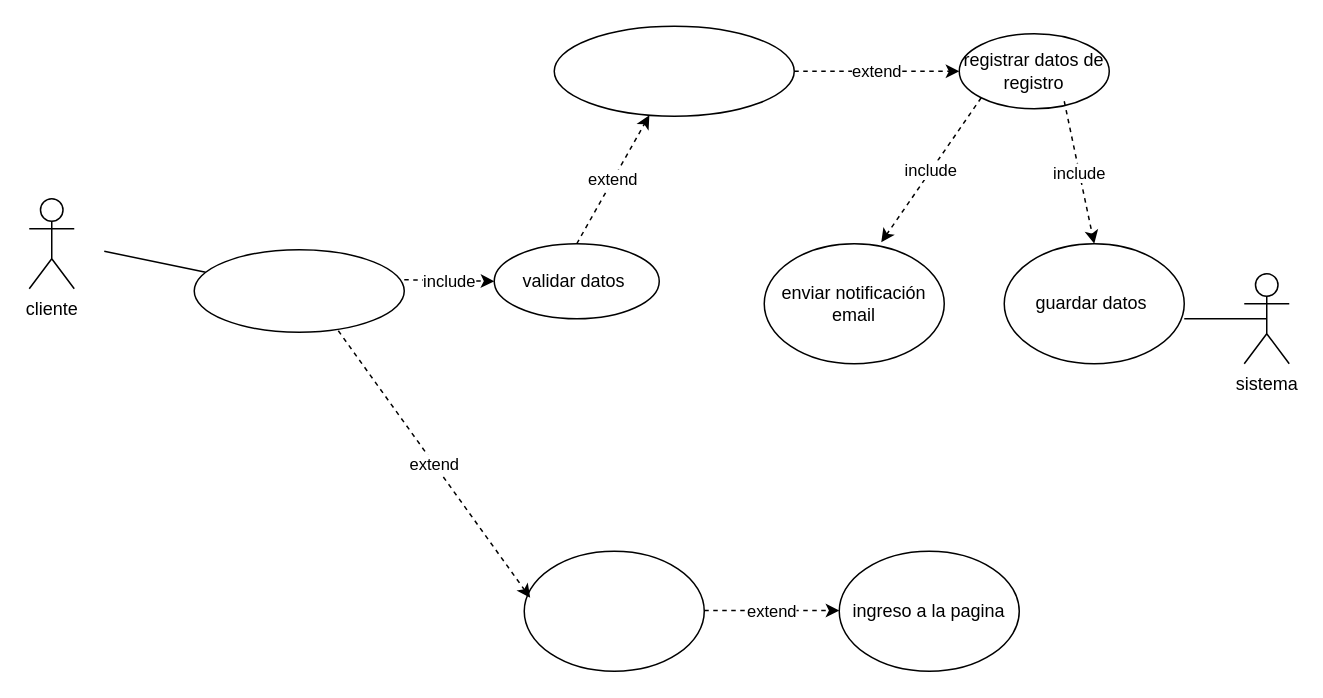
Some shapes in this 1323 by 698 pixel diagram are drawn without their labels. The centre of each missing label's shape, as x and y in pixels:
"inicio de sesión" goes at (298,290).
"registrar datos de inicio de sesión" goes at (613,610).
"registro usuario" goes at (673,70).
